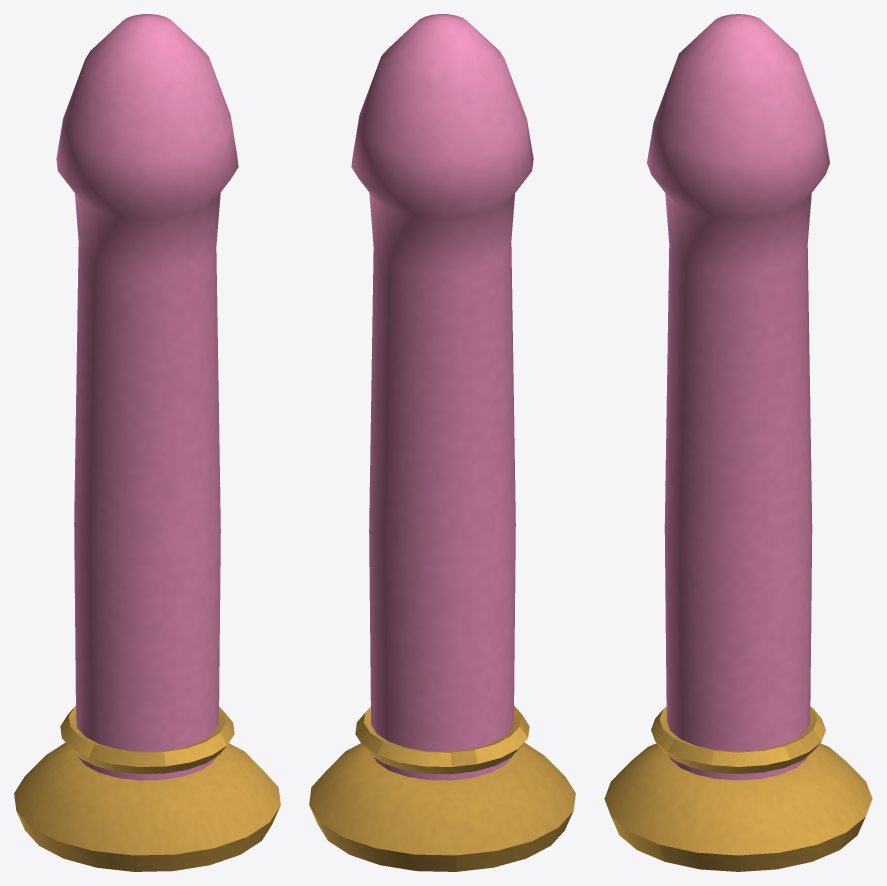
The model's file is Toy_Dildo.fbx.
The picture shows the model from 3 angles, left to right: view 1: azimuth 30°, elevation 25°; view 2: azimuth 150°, elevation 25°; view 3: azimuth 270°, elevation 25°; orthographic projection.
Parts seen in each view (by area): view 1: Toy_Dildo; view 2: Toy_Dildo; view 3: Toy_Dildo.
Part boxes in pixels (left/top/right/bottom): Toy_Dildo: left=14, top=14, right=280, bottom=871; Toy_Dildo: left=309, top=14, right=575, bottom=871; Toy_Dildo: left=604, top=14, right=872, bottom=871.
Size of the model in its own units: 0.06 by 0.198 by 0.06.
2 materials, 2 textured.
